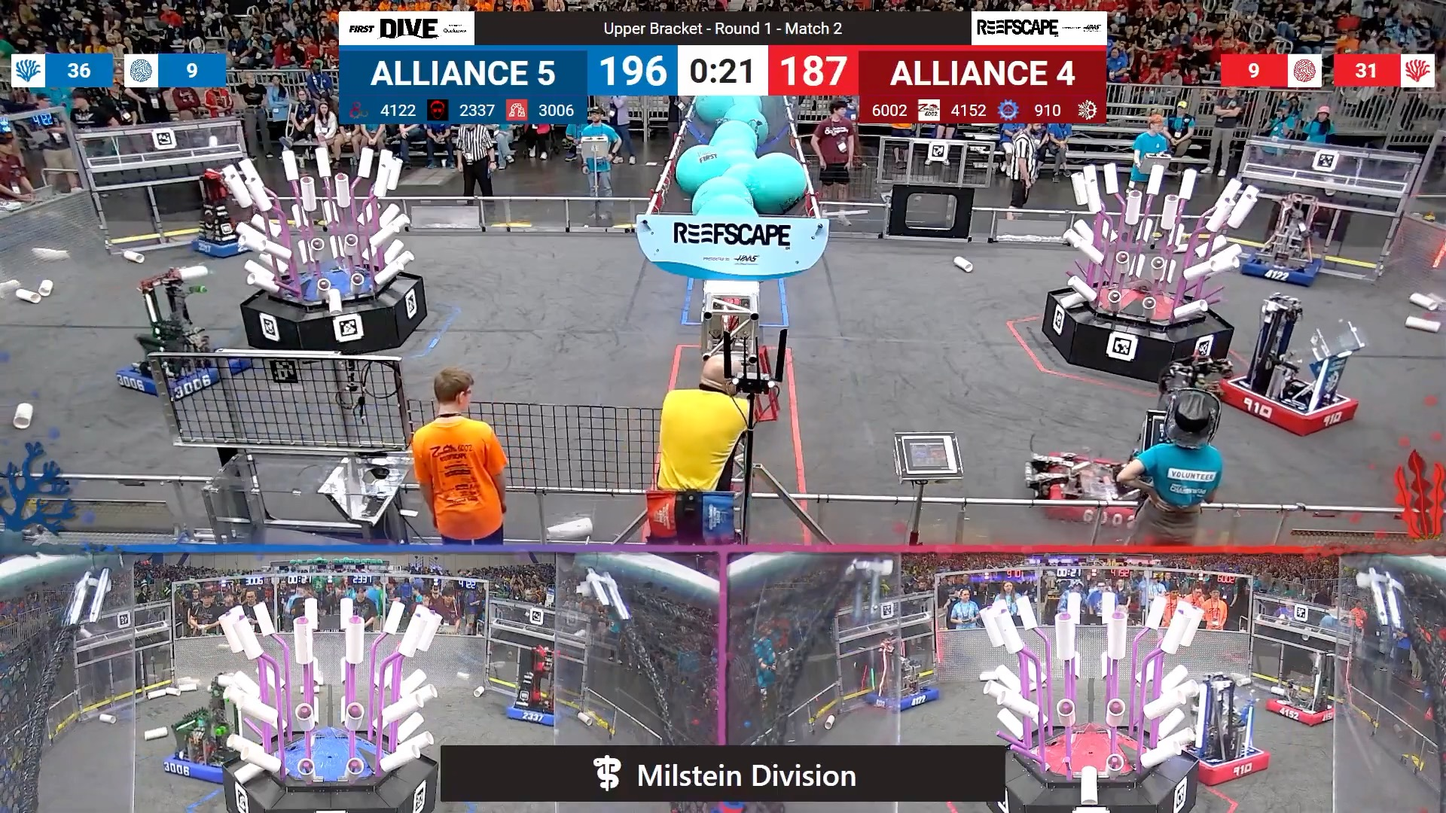bumpers: (1203, 374, 1365, 440), (1030, 454, 1155, 526), (108, 354, 250, 400), (1174, 738, 1277, 785), (158, 739, 258, 784), (1230, 248, 1332, 290), (1255, 692, 1346, 728), (185, 229, 265, 263), (498, 692, 569, 730), (863, 683, 944, 716)
